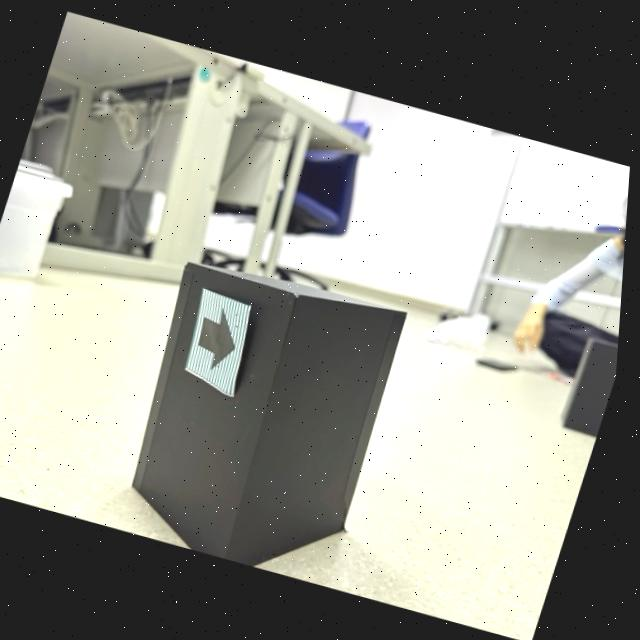RIGHT: (202, 308, 241, 369)
